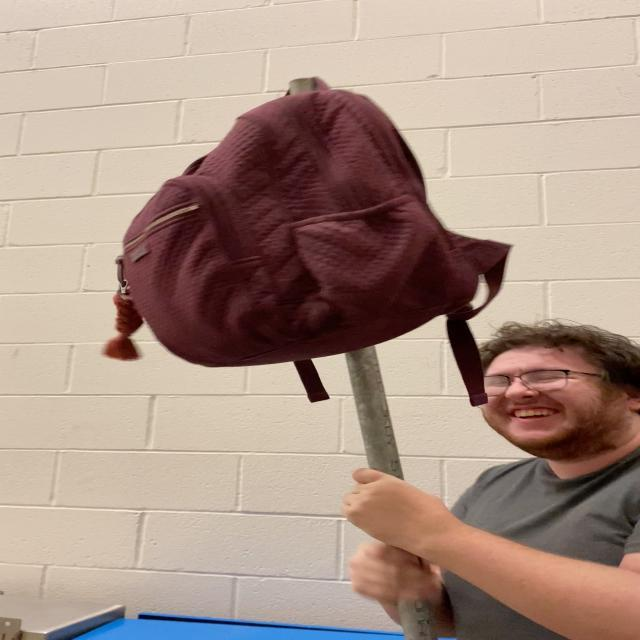Backpacks: (110, 86, 486, 368)
